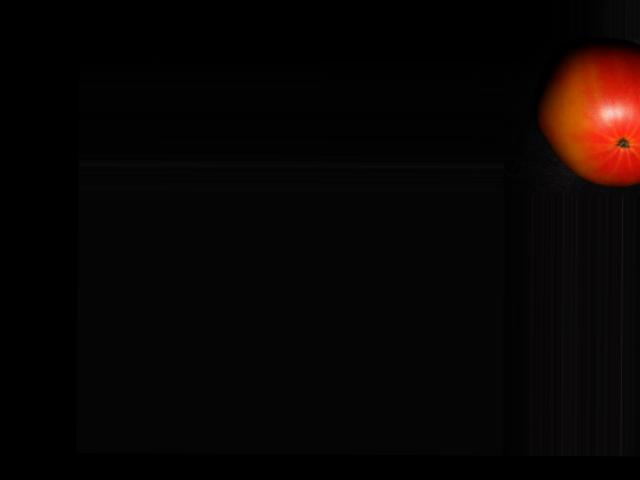tomato: (537, 41, 640, 186)
